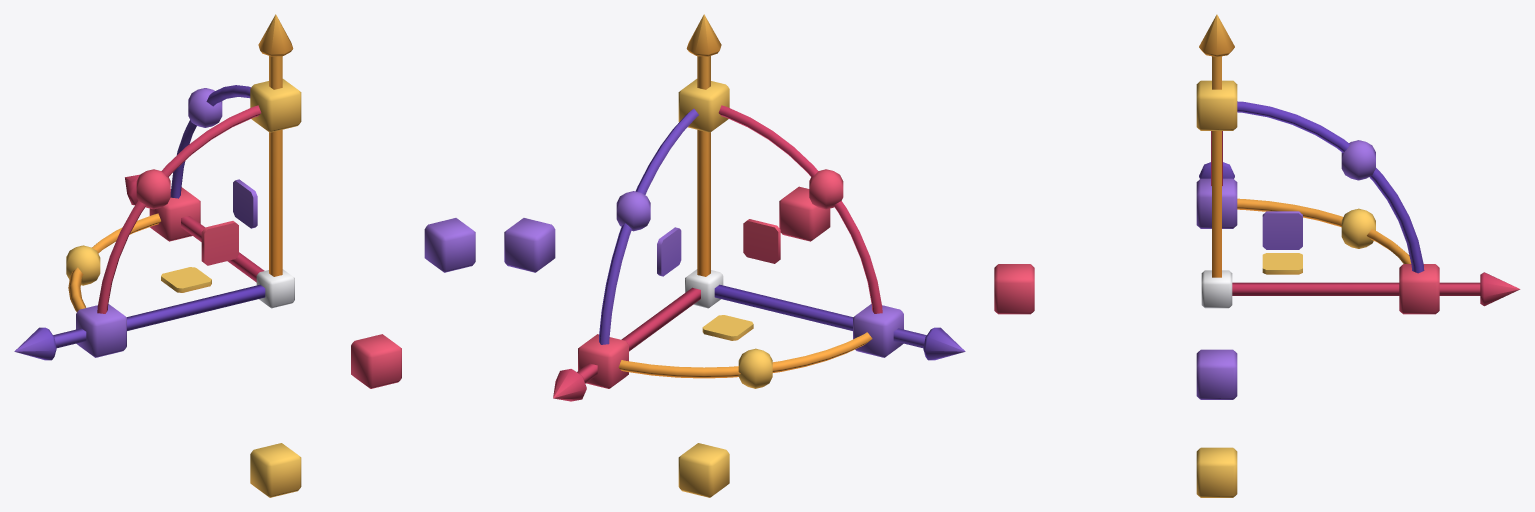
File: gizmo.glb
3 views of the same model, side by side, from view 1: azimuth 30°, elevation 25°; view 2: azimuth 150°, elevation 25°; view 3: azimuth 270°, elevation 25° (orthographic).
Parts seen in each view (by area): view 1: rotation-z, position-x, position-y, scale-x-minus, scale-y-minus, scale-z-minus, rotation-x, scale-y, rotation-y, scale-x, scale-z, translation-z (+4 smaller); view 2: rotation-y, rotation-z, rotation-x, position-x, position-y, position-z, scale-x-minus, scale-y-minus, scale-z-minus, scale-y, scale-x, scale-z (+4 smaller); view 3: rotation-x, position-z, rotation-y, position-y, scale-y-minus, scale-x-minus, scale-z-minus, scale-y, scale-z, scale-x, translation-x, scale (+1 smaller).
Boxes of the visible parts, x1,y1,x2,y2 form: rotation-z: (97,105,261,313); position-x: (14,284,265,360); position-y: (258,14,293,276); scale-x-minus: (424,218,475,272); scale-y-minus: (250,443,301,497); scale-z-minus: (351,334,401,388); rotation-x: (170,85,250,198); scale-y: (250,79,301,132); rotation-y: (66,213,160,311); scale-x: (76,304,126,357); scale-z: (149,187,200,241); translation-z: (201,221,238,265); rotation-y: (618,332,872,388); rotation-z: (718,105,882,313); rotation-x: (599,108,698,344); position-x: (714,284,965,360); position-y: (686,14,721,276); position-z: (553,287,700,401); scale-x-minus: (504,218,555,272); scale-y-minus: (678,443,729,497); scale-z-minus: (779,186,830,241); scale-y: (678,79,729,132); scale-x: (853,304,903,357); scale-z: (578,334,628,388); rotation-x: (1237,101,1424,273); position-z: (1232,272,1520,306); rotation-y: (1237,198,1411,263); position-y: (1199,14,1234,277); scale-y-minus: (1196,447,1237,497); scale-x-minus: (1196,349,1237,399); scale-z-minus: (994,264,1034,314); scale-y: (1196,80,1237,130); scale-z: (1399,264,1439,314); scale-x: (1196,178,1237,228); translation-x: (1262,211,1302,249); scale: (1201,270,1232,308).
Bounding box in the file's own units: 13 × 13 × 13.
1 material, 1 textured.
